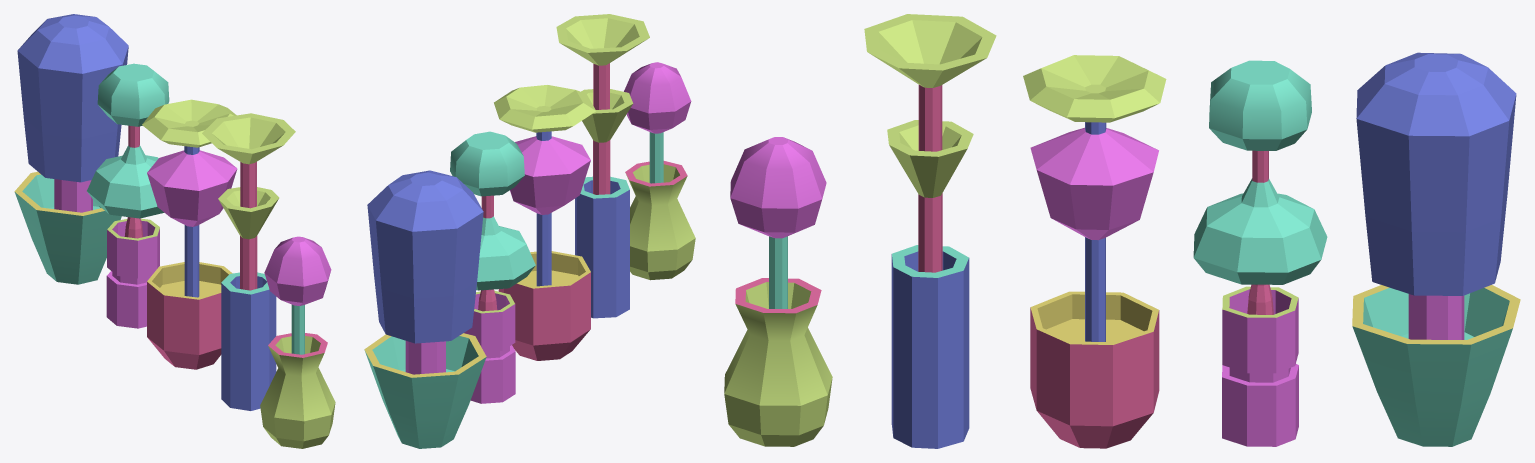
File: plant.fbx
3 views of the same model, side by side, from view 1: azimuth 30°, elevation 25°; view 2: azimuth 150°, elevation 25°; view 3: azimuth 270°, elevation 25° (orthographic). The views are drawn at different scales.
Parts seen in each view (by area): view 1: pPlane4, pPlane1, pPlane2, pPlane3, pPlane5; view 2: pPlane4, pPlane1, pPlane2, pPlane3, pPlane5; view 3: pPlane4, pPlane1, pPlane3, pPlane2, pPlane5.
Boxes of the visible parts, x1,y1,x2,y2 form: pPlane4: (14,14,128,284); pPlane1: (142,99,237,369); pPlane2: (202,113,295,410); pPlane3: (87,63,169,328); pPlane5: (260,236,335,448); pPlane4: (364,170,486,448); pPlane1: (494,85,595,360); pPlane2: (556,14,649,318); pPlane3: (450,131,535,403); pPlane5: (624,62,695,280); pPlane4: (1352,52,1520,446); pPlane1: (1023,55,1166,448); pPlane3: (1193,60,1327,446); pPlane2: (864,14,996,448); pPlane5: (724,137,832,446).
Bounding box in the file's own units: 3.6 × 9.48 × 17.54.
